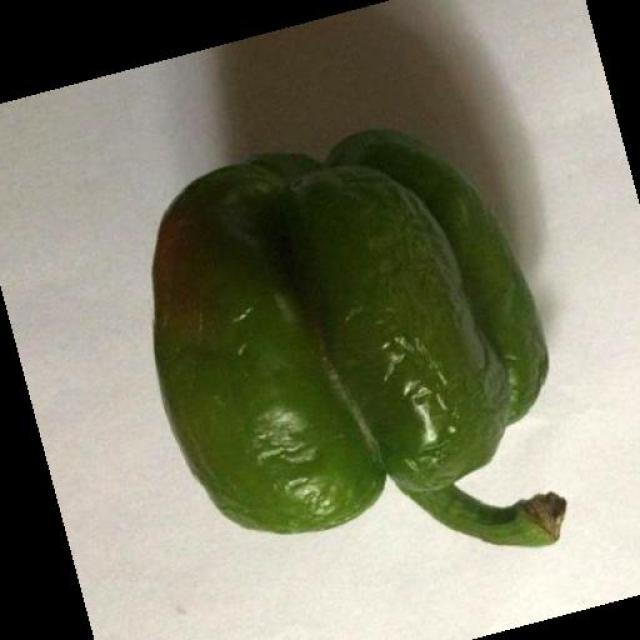Stale_Capsicum: (151, 154, 559, 529)
